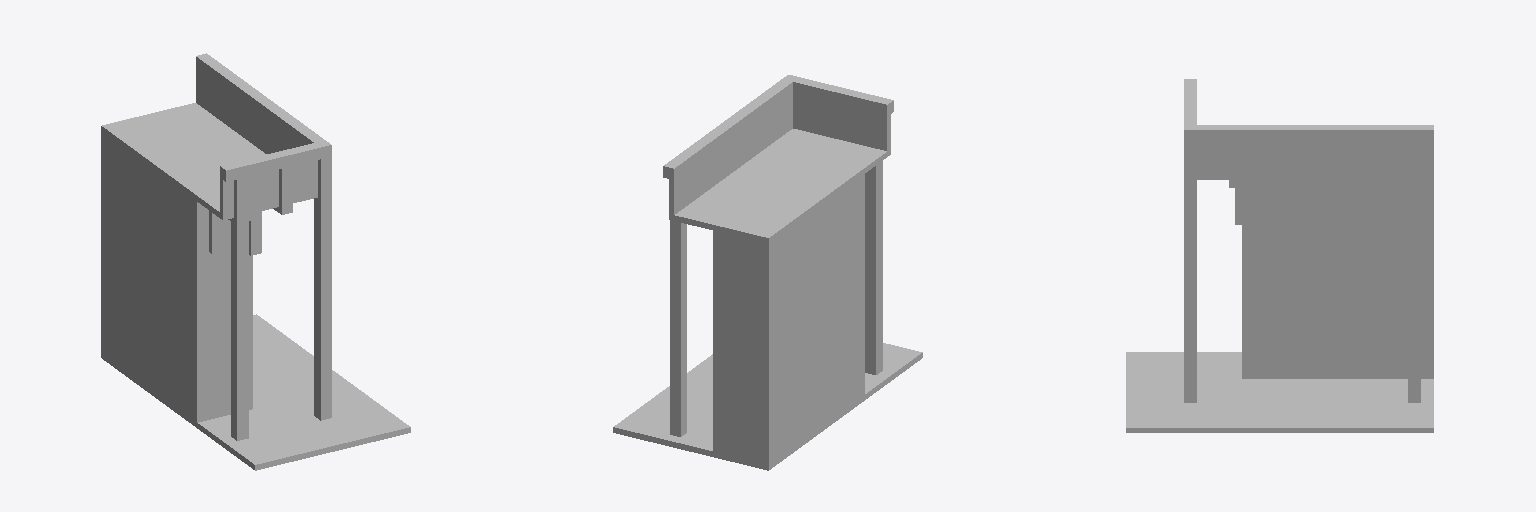
The model's file is villaGreyLowerCorner-0.obj.
3 views of the same model, side by side, from view 1: azimuth 30°, elevation 25°; view 2: azimuth 150°, elevation 25°; view 3: azimuth 270°, elevation 25° (orthographic).
Parts seen in each view (by area): view 1: object 1; view 2: object 1; view 3: object 1.
Part boxes in pixels (x1,y1,x2,y2): object 1: (101, 53, 410, 470); object 1: (613, 75, 922, 470); object 1: (1126, 79, 1433, 432).
Bounding box in the file's own units: 2.8 × 4.8 × 4.8.